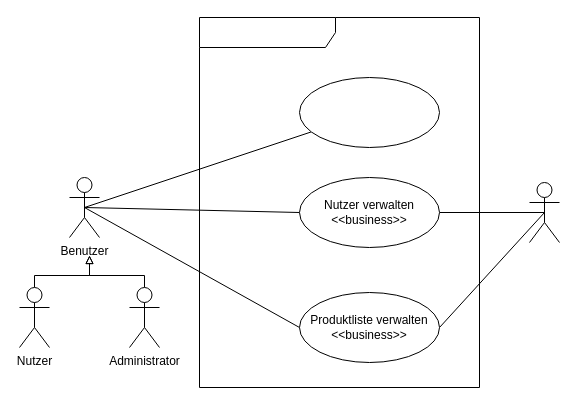
This 577x405 diagram has some shape labels left out. Here are the shapes that lost their labels. From the top down, the box of each, then its label:
(298, 76, 440, 148): Käufe verwalten <<business>>
(198, 16, 480, 388): MaskYourFace
(528, 182, 560, 242): Gast
